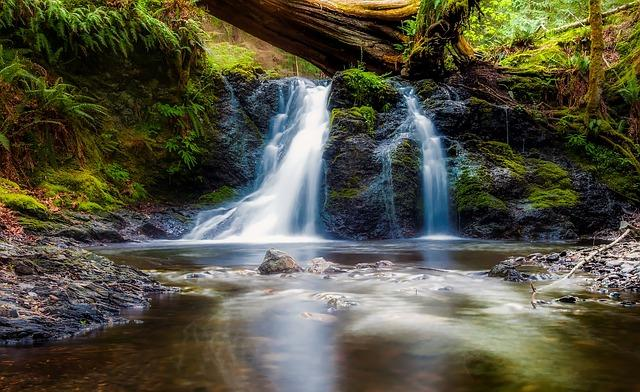Non_Gorille: (106, 9, 579, 358)
